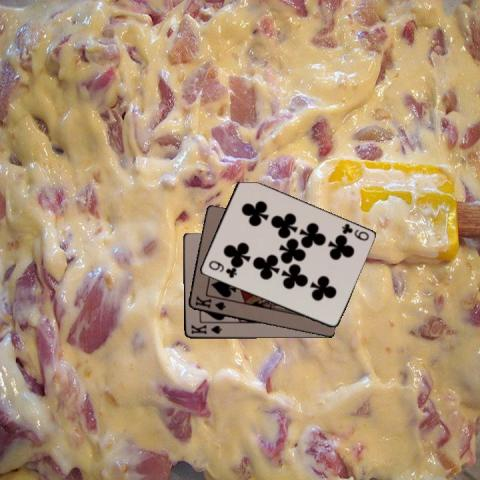9c: (205, 258, 238, 280), (339, 221, 370, 243)
Ks: (192, 293, 227, 312), (188, 322, 223, 335)
